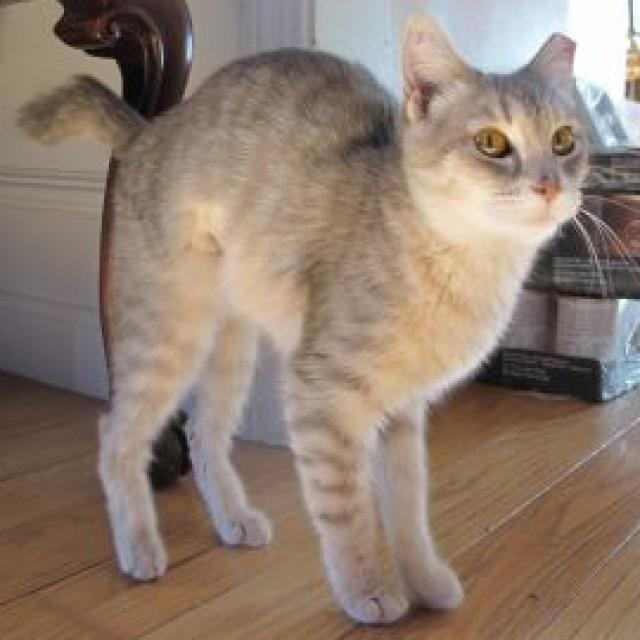American Bobtail: (8, 7, 595, 630)
